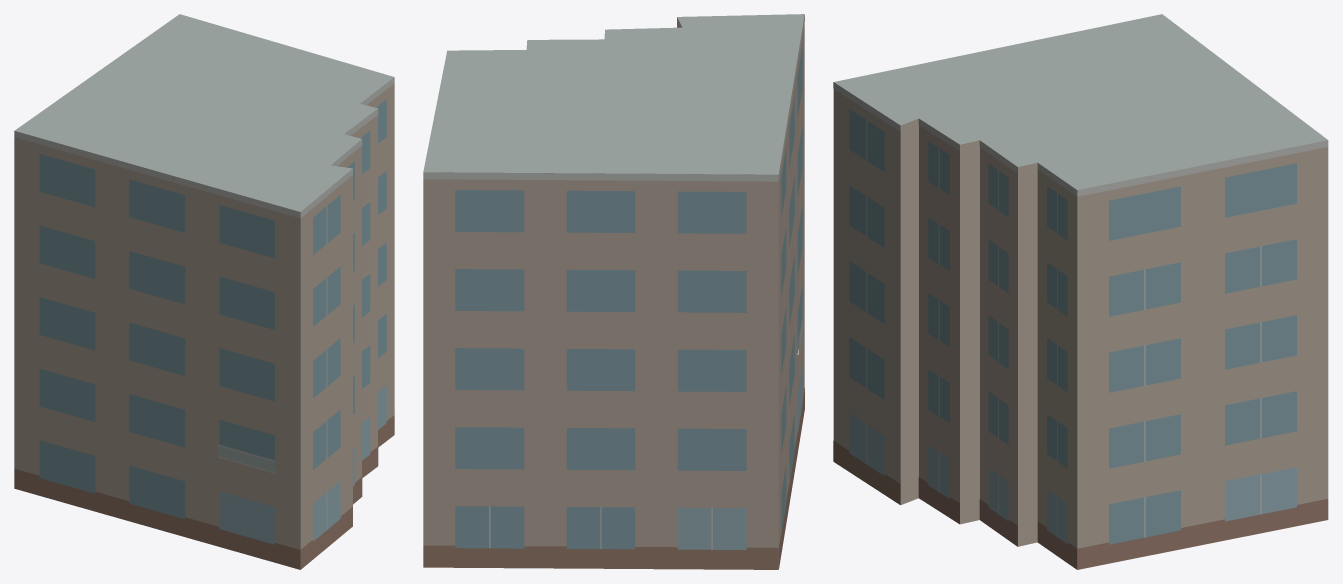
The model's file is survey-upis-32824301.glb.
The picture shows the model from 3 angles, left to right: view 1: azimuth 30°, elevation 25°; view 2: azimuth 150°, elevation 25°; view 3: azimuth 270°, elevation 25°; orthographic projection. The views are drawn at different scales.
Visible parts, largest first — view 1: survey-upis-32824301.tmp; view 2: survey-upis-32824301.tmp; view 3: survey-upis-32824301.tmp.
Boxes of the visible parts, x1,y1,x2,y2 form: survey-upis-32824301.tmp: [14, 14, 394, 569]; survey-upis-32824301.tmp: [423, 14, 804, 569]; survey-upis-32824301.tmp: [833, 14, 1328, 569].
Bounding box in the file's own units: 13.79 × 13.85 × 16.36.
